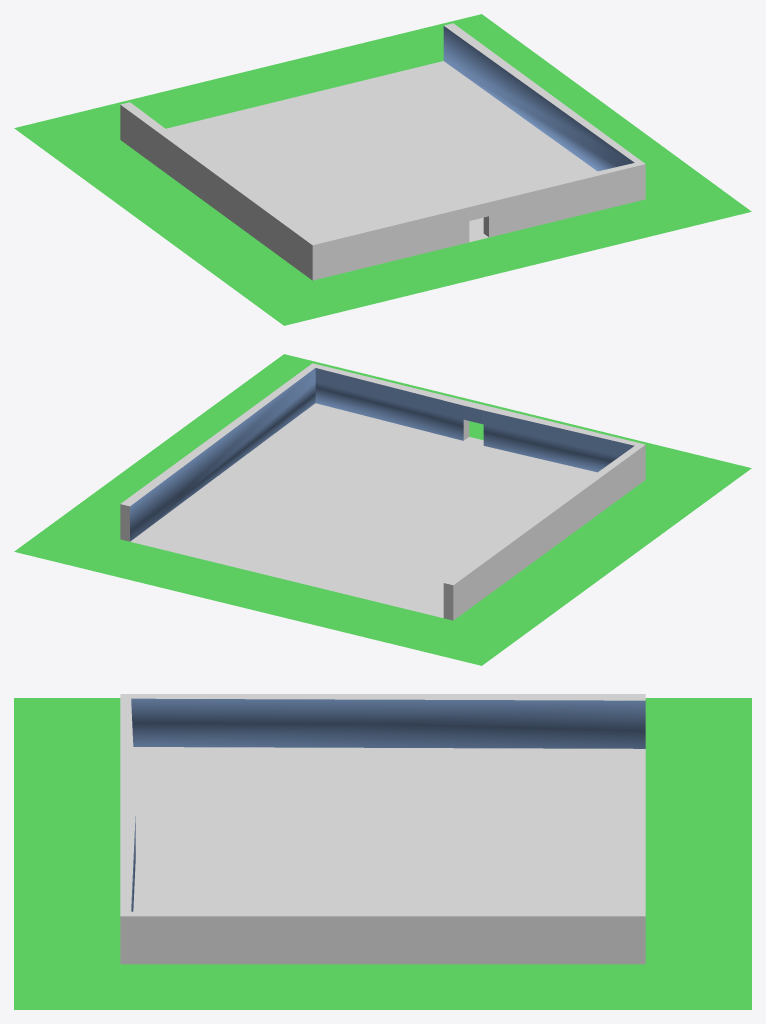
The model's file is GameZoneBuilding (1).fbx.
3 views of the same model, one above another, from view 1: azimuth 30°, elevation 25°; view 2: azimuth 150°, elevation 25°; view 3: azimuth 270°, elevation 25° (orthographic). The views are drawn at different scales.
Visible parts, largest first — view 1: Cube, Plane; view 2: Cube, Plane; view 3: Cube, Plane.
Boxes of the visible parts, <box> form: Cube: <box>120,23,645,280</box>; Plane: <box>14,14,751,325</box>; Cube: <box>120,363,645,620</box>; Plane: <box>14,354,751,665</box>; Cube: <box>120,694,645,964</box>; Plane: <box>14,698,751,1009</box>.
Size of the model in its own units: 13996 by 1020 by 13996.
